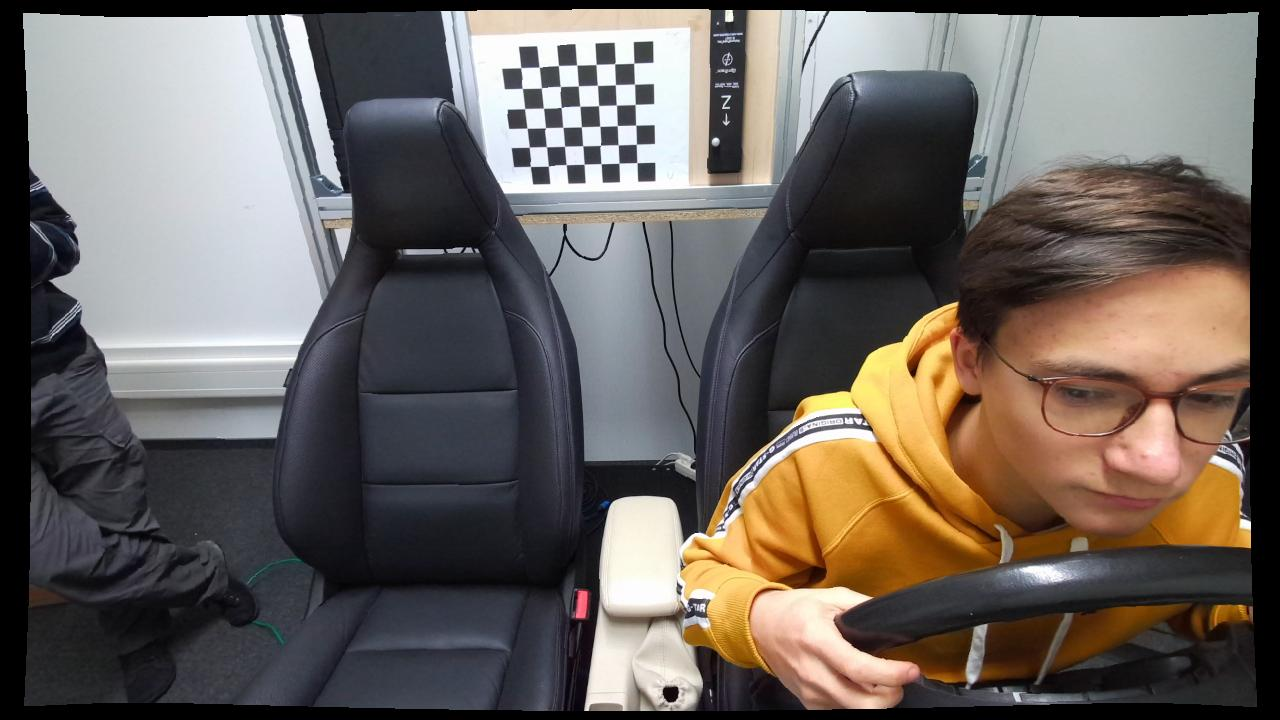Distracted: (676, 153, 1258, 708)
